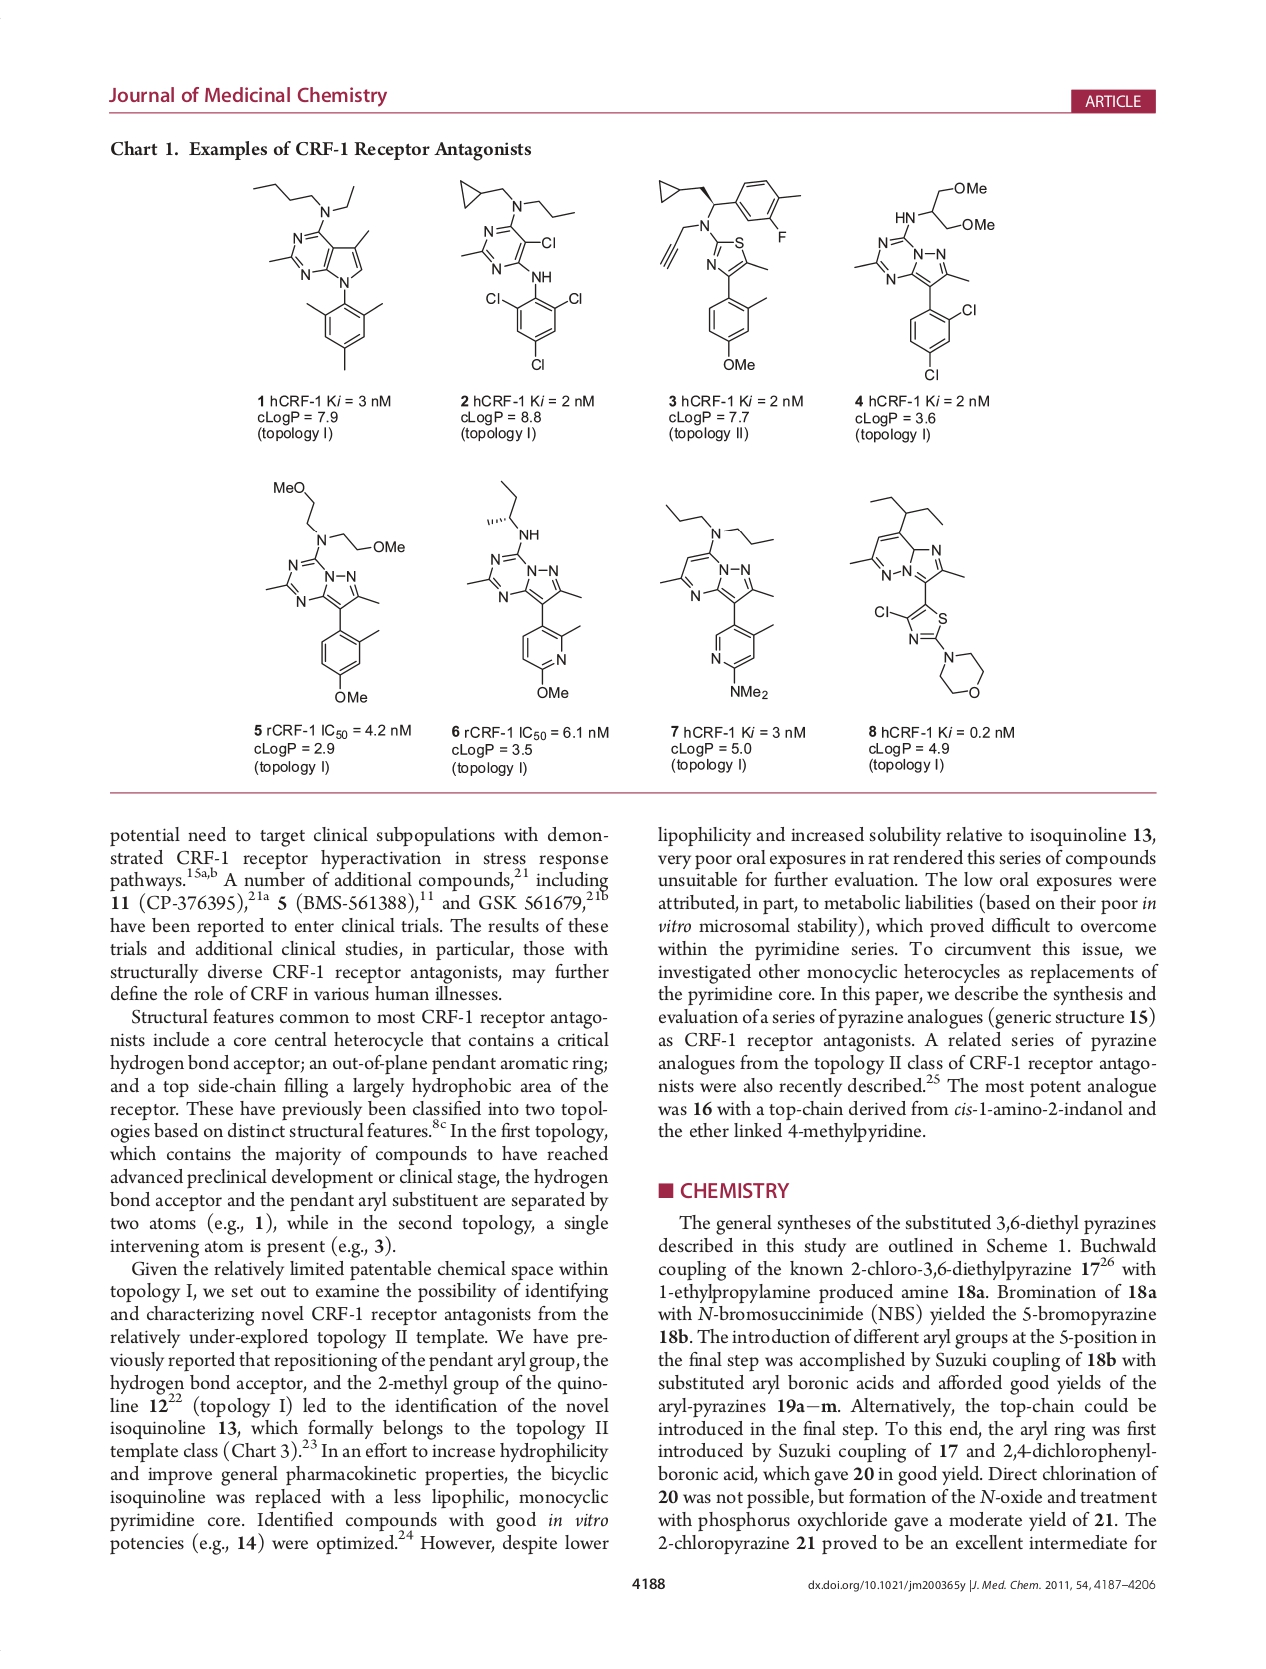exist_molecular: (265, 477, 406, 706), (654, 176, 805, 372), (848, 493, 989, 701), (852, 178, 993, 383), (464, 477, 588, 704), (251, 176, 386, 374), (654, 500, 783, 700), (453, 178, 584, 374)
